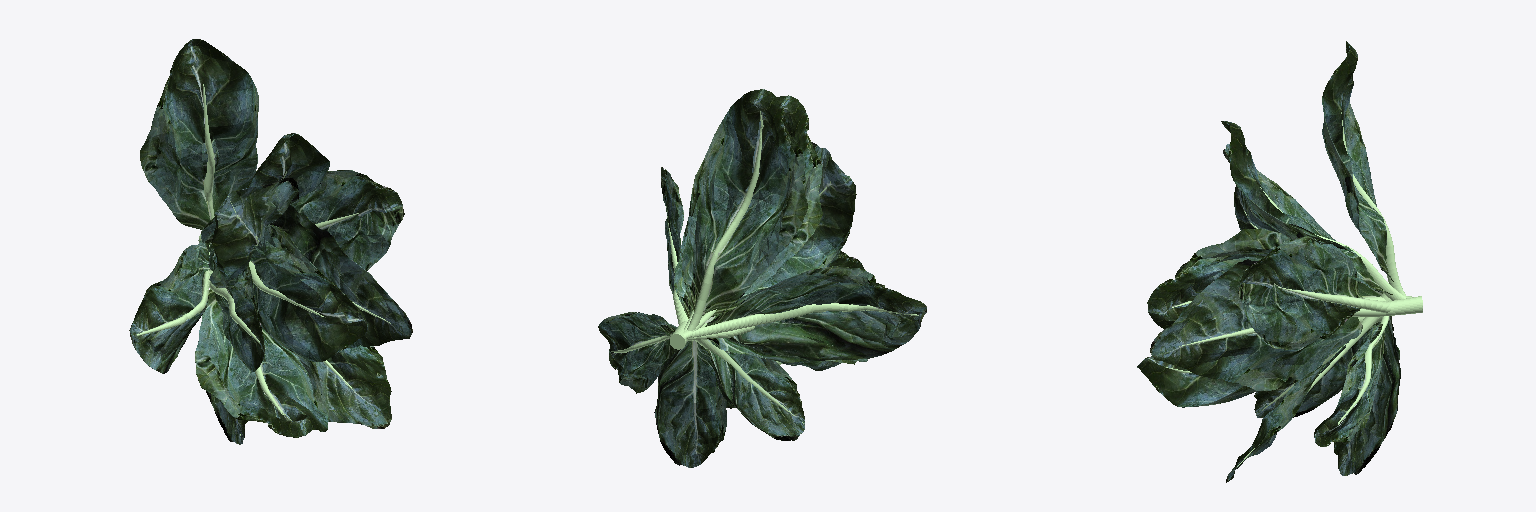
3 renders of one model, left to right at view 1: azimuth 30°, elevation 25°; view 2: azimuth 150°, elevation 25°; view 3: azimuth 270°, elevation 25°, orthographic.
Parts seen in each view (by area): view 1: plant_Plane.087; view 2: plant_Plane.087; view 3: plant_Plane.087.
Boxes of the visible parts, box(x1,y1,x2,y2) form: plant_Plane.087: box(129, 39, 412, 444); plant_Plane.087: box(598, 89, 926, 467); plant_Plane.087: box(1137, 41, 1422, 482).
Bounding box in the file's own units: 0.2984 × 0.3975 × 0.2592.
2 materials, 1 textured.